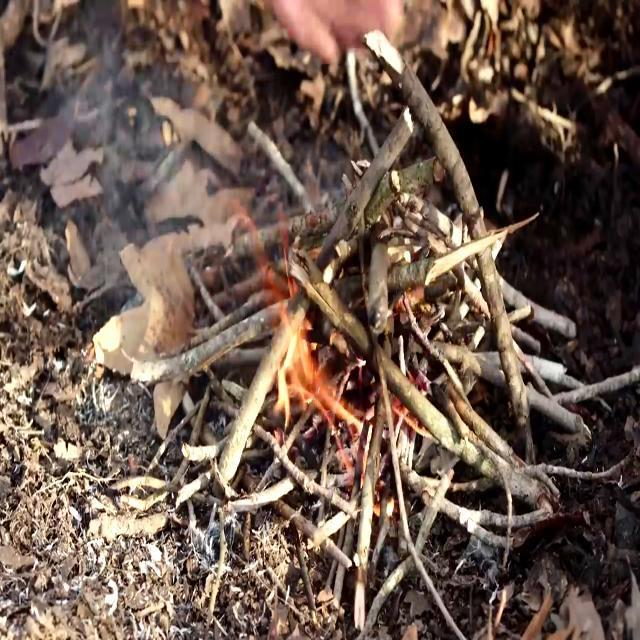Fire: (257, 268, 344, 421)
Smoke: (51, 40, 190, 268)
